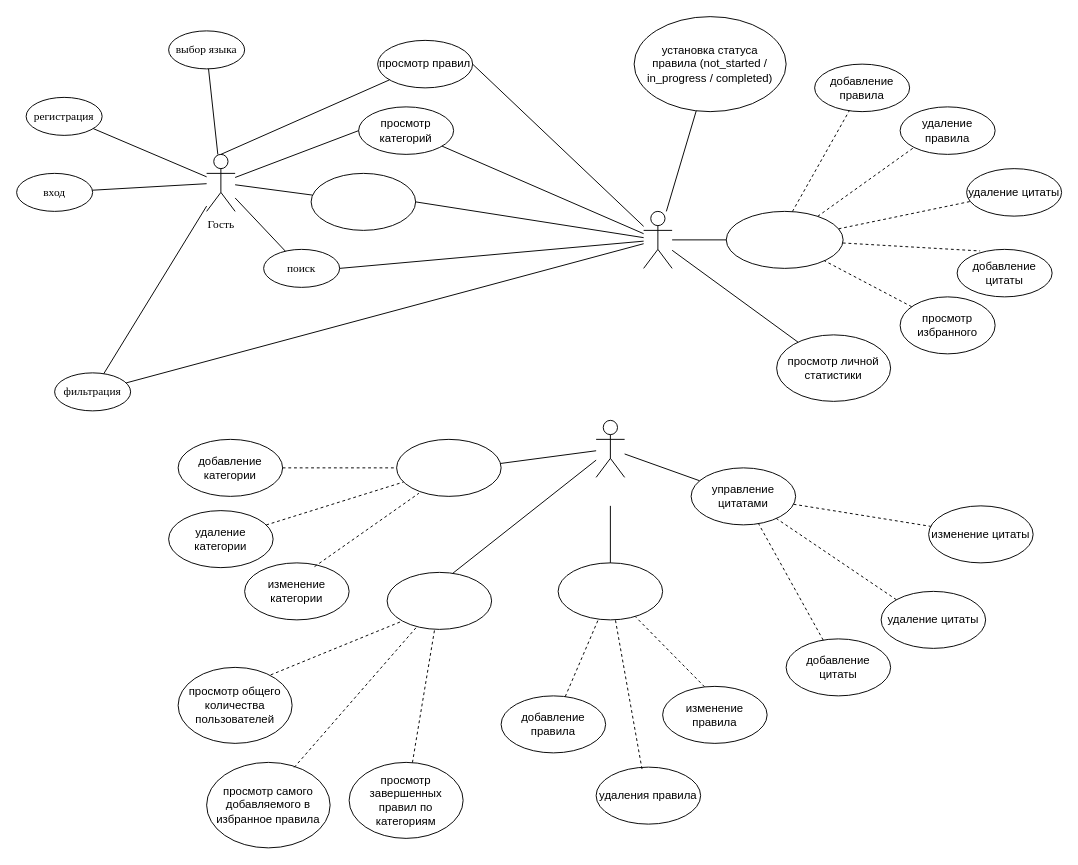
Some shapes in this 1078 by 865 pixel diagram are drawn without their labels. The shapes that lost their labels are listed below. From the top down, each one's box as (x1, y1, x2, y2) in pixels, then its label:
(310, 172, 416, 230): просмотр цитат из книг
(643, 210, 672, 268): Пользователь
(725, 210, 843, 268): управление избранным
(396, 438, 501, 496): управление категориями
(595, 419, 625, 477): Администратор
(386, 571, 492, 629): просмотр аналитики
(557, 562, 663, 620): управление правилами
